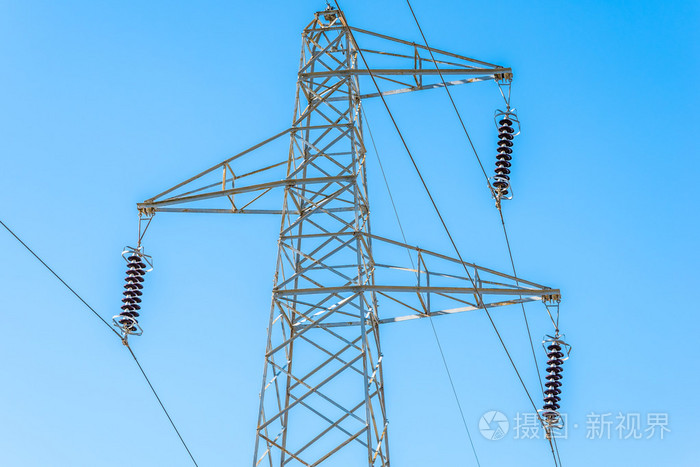insulator: (119, 255, 147, 330), (492, 120, 515, 191), (541, 345, 565, 409)
